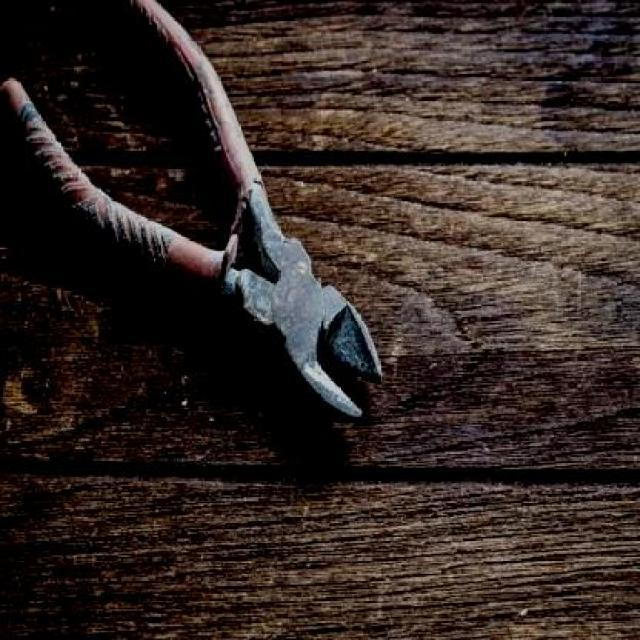pliers: (1, 2, 382, 420)
